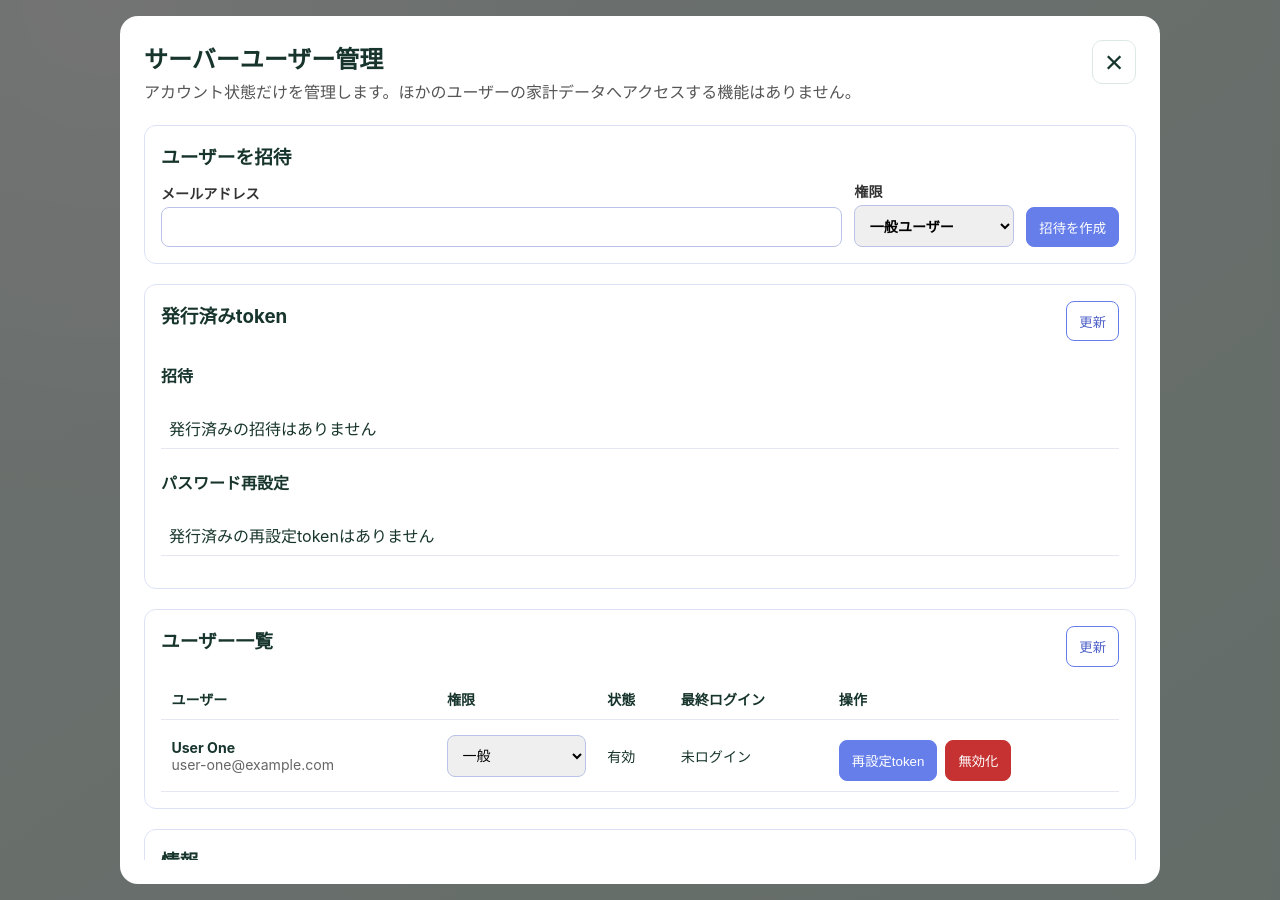
ServerAccountAdminModal › fails closed when invitation creation fails
Type "new-user@example.com" into the field labelled "メールアドレス" at (502, 227), box [161,207,842,247]
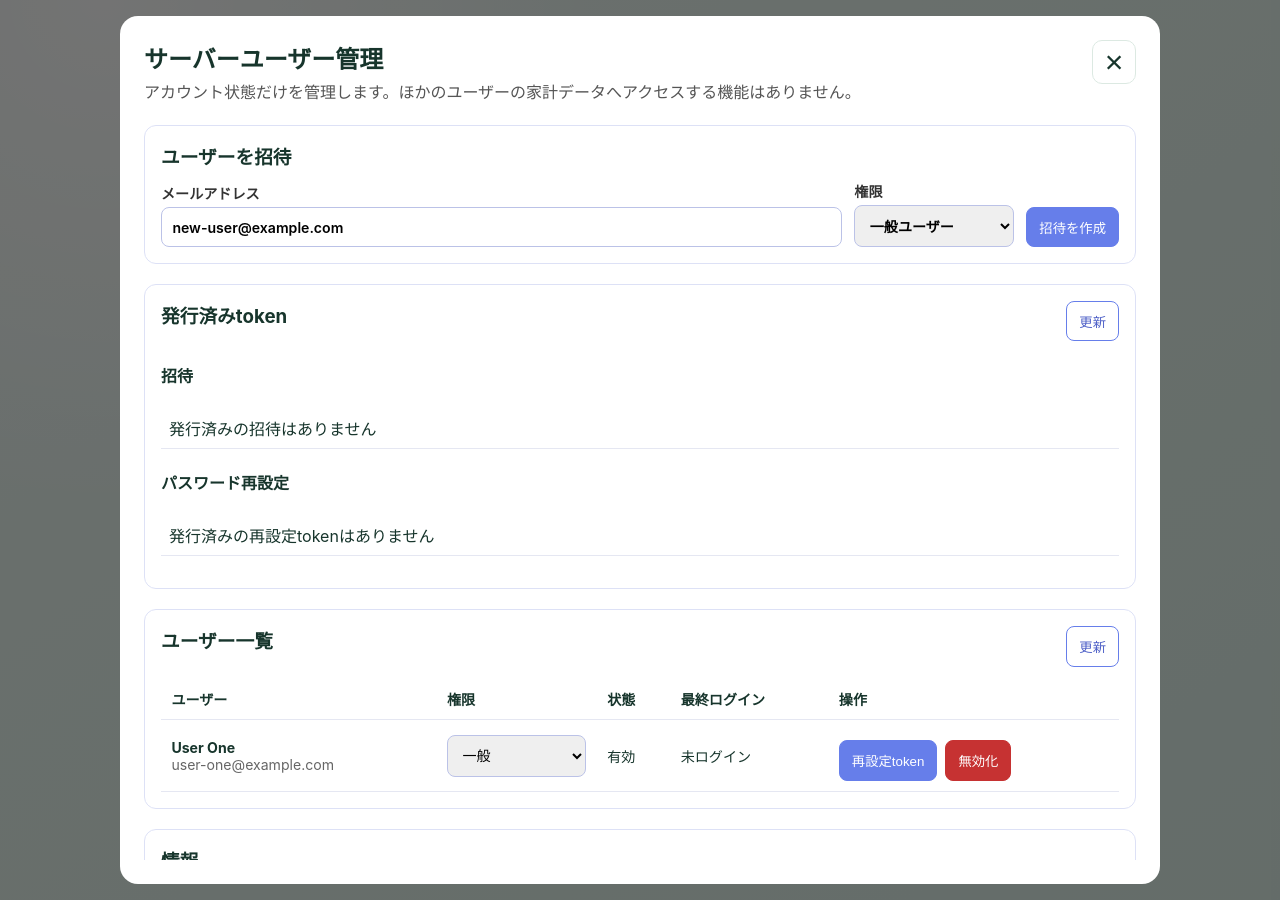
Submit the form with class "invite-form", box [161,181,1119,247]
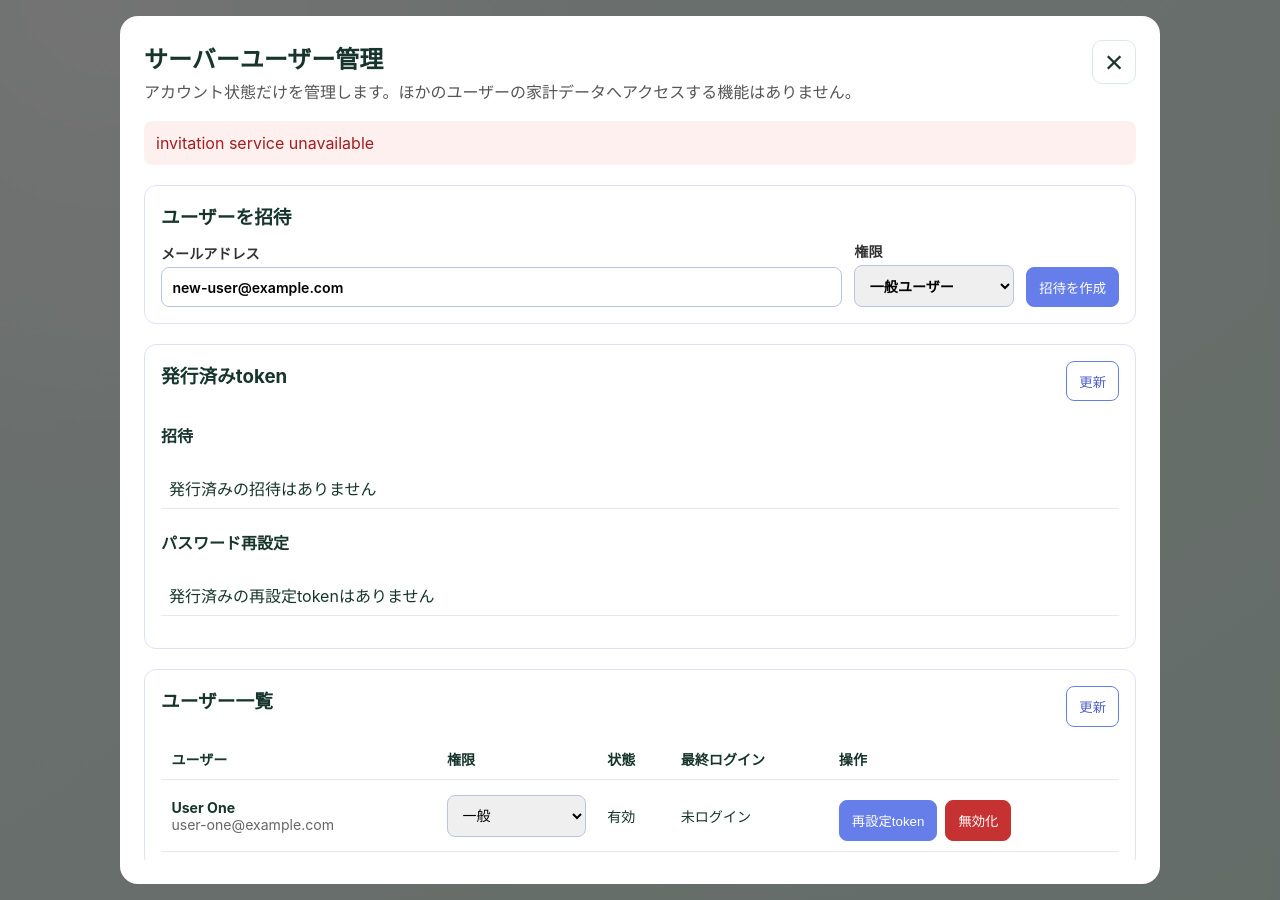
Now the message "invitation service unavailable" is shown, box [144,121,1136,165]
